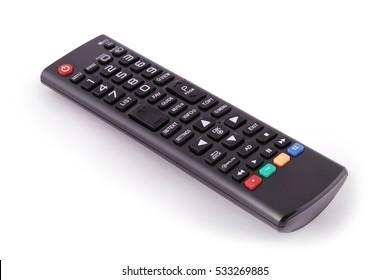Remote control: (40, 34, 349, 234)
